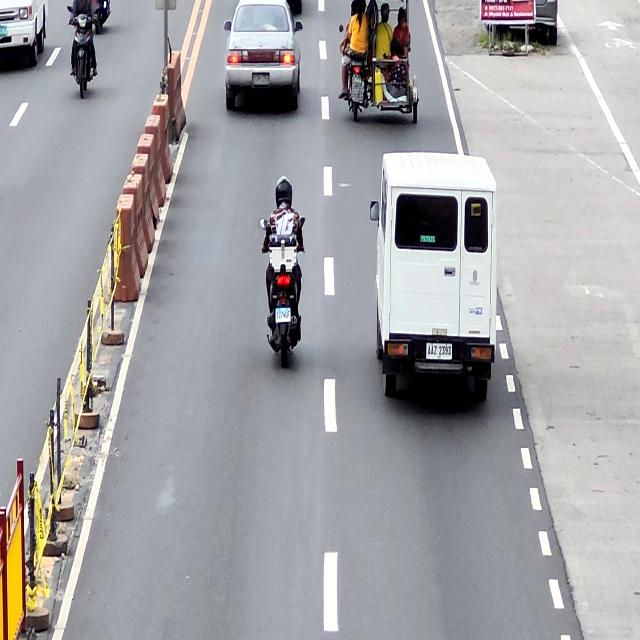Car: (368, 149, 496, 400), (222, 0, 303, 116)
License-Plate: (426, 342, 452, 362), (274, 306, 292, 324), (252, 73, 270, 87)
Motorcycle: (261, 216, 308, 370)
Tricycle: (336, 22, 421, 122)
